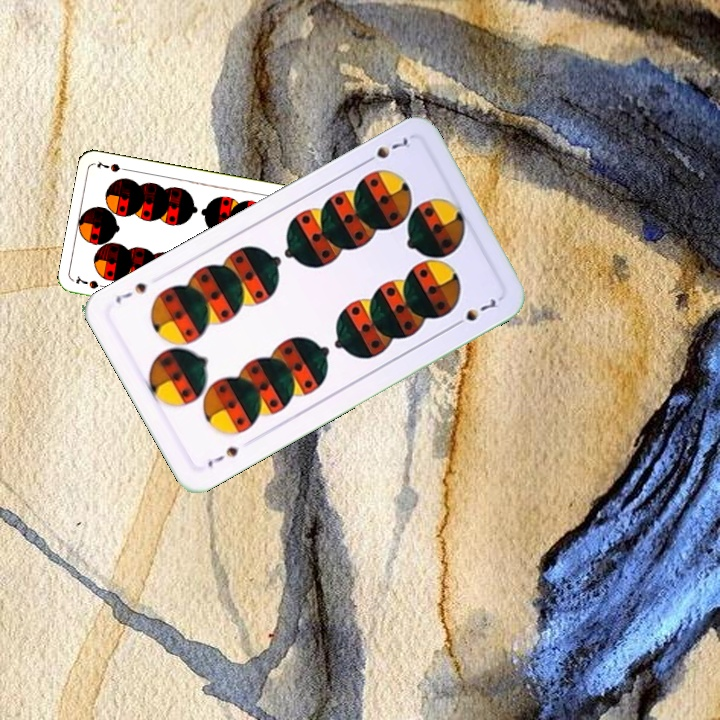S7: (359, 133, 414, 167), (203, 442, 241, 470), (72, 273, 112, 291)
